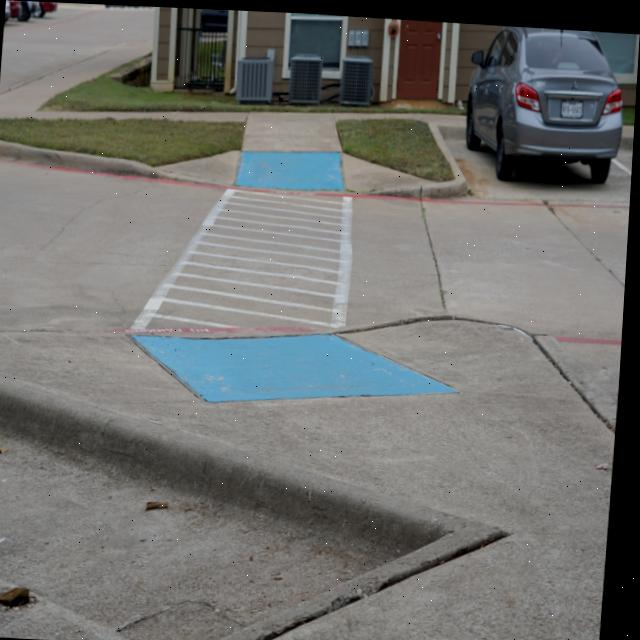Automobile: (466, 24, 624, 168)
Obstacle: (0, 386, 439, 640), (237, 54, 274, 100), (289, 52, 323, 101), (340, 53, 373, 102)
Road: (0, 130, 634, 401), (0, 3, 154, 93)
Sidewalk: (0, 310, 621, 640), (0, 47, 438, 194)
